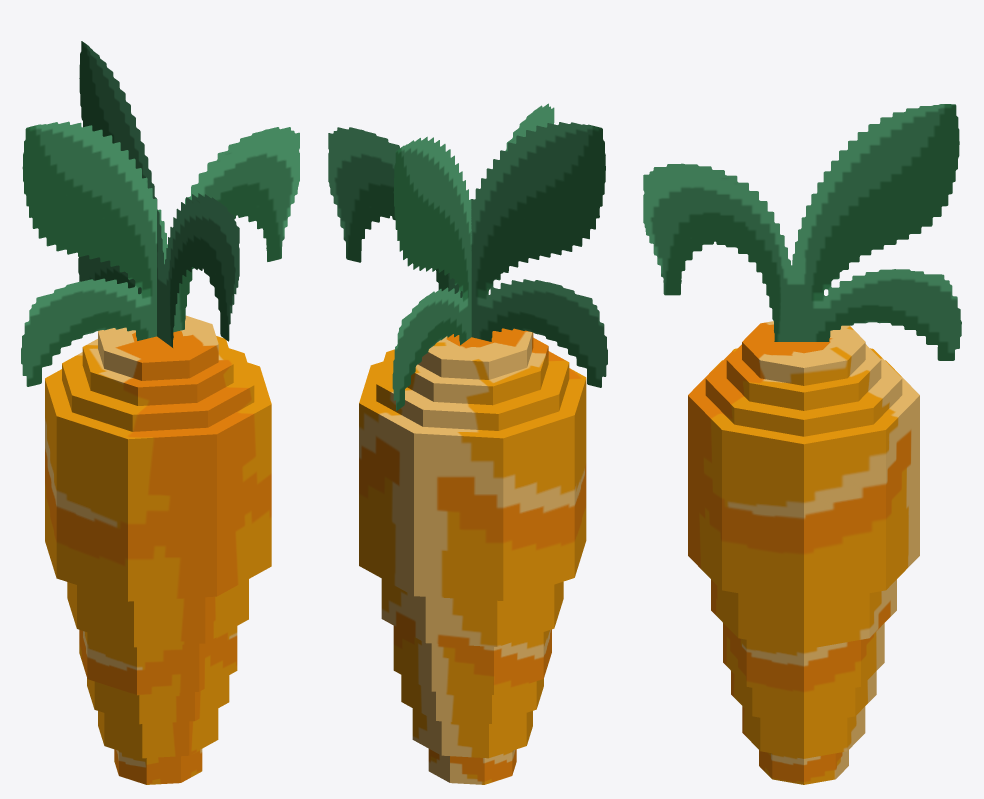
The model's file is CARROT.fbx.
3 views of the same model, side by side, from view 1: azimuth 30°, elevation 25°; view 2: azimuth 150°, elevation 25°; view 3: azimuth 270°, elevation 25° (orthographic).
Parts seen in each view (by area): view 1: Carrot; view 2: Carrot; view 3: Carrot.
Part boxes in pixels (box(x1,y1,x2,y2)): Carrot: box(21, 41, 299, 784); Carrot: box(328, 103, 607, 784); Carrot: box(643, 104, 961, 784).
Size of the model in its own units: 44.21 by 102 by 44.21.
1 material, 1 textured.
